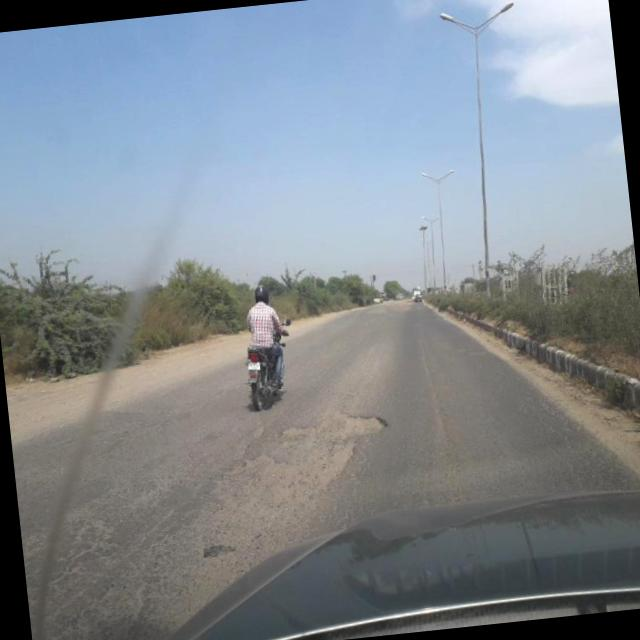crack: (24, 469, 205, 640), (409, 326, 445, 449)
pothole: (201, 394, 408, 522)
